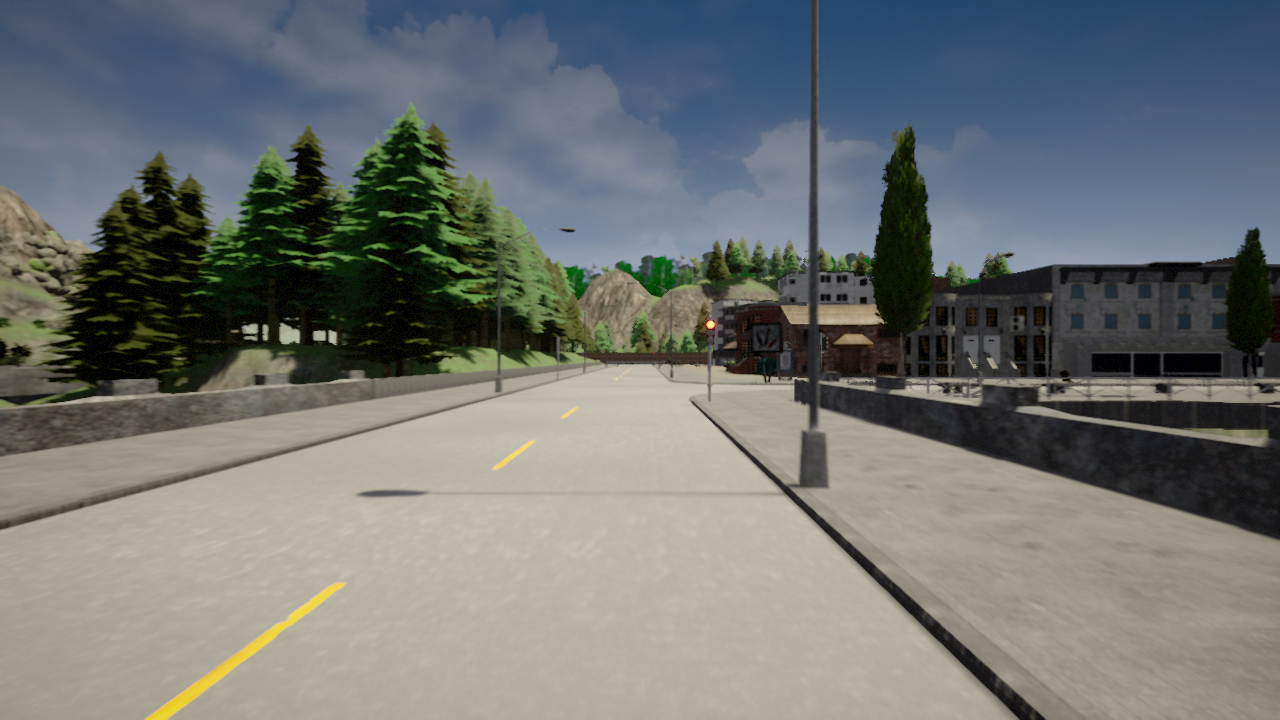red: (704, 319, 715, 347)
